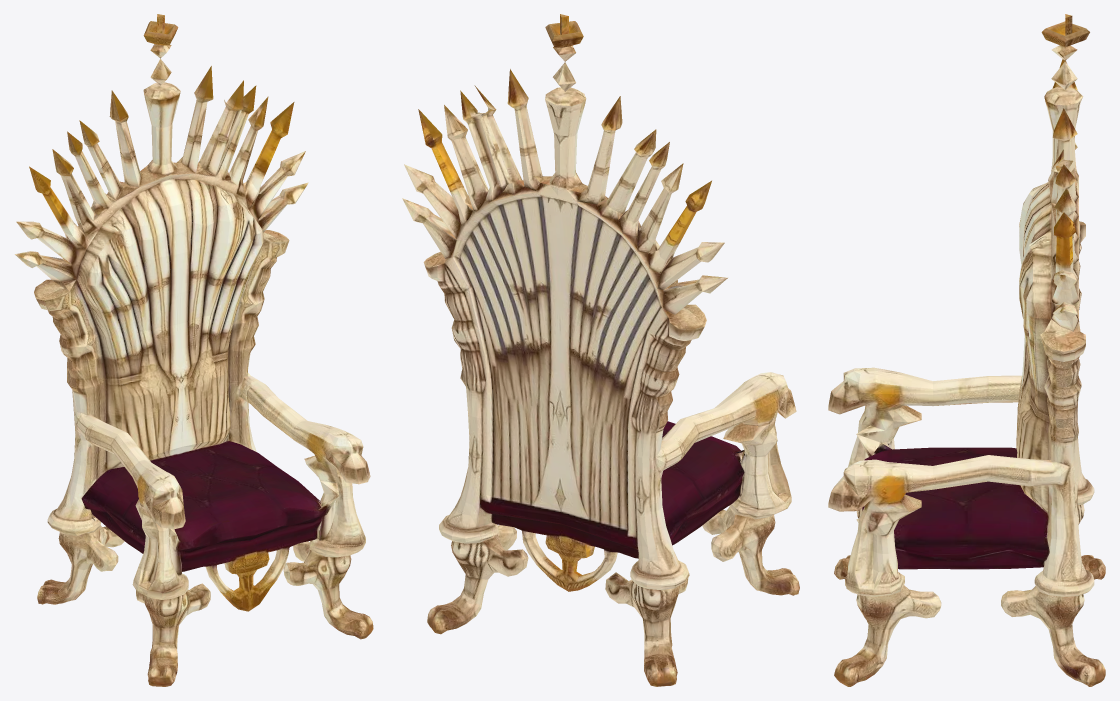
The model's file is throne_bone.glb.
The picture shows the model from 3 angles, left to right: view 1: azimuth 30°, elevation 25°; view 2: azimuth 150°, elevation 25°; view 3: azimuth 270°, elevation 25°; orthographic projection. The views are drawn at different scales.
Parts seen in each view (by area): view 1: mesh_node; view 2: mesh_node; view 3: mesh_node.
Part boxes in pixels (x1,y1,x2,y2): mesh_node: (15,14,373,686); mesh_node: (402,14,799,686); mesh_node: (828,14,1105,686).
Bounding box in the file's own units: 1.03 × 1.91 × 0.7788.
1 material, 1 textured.
